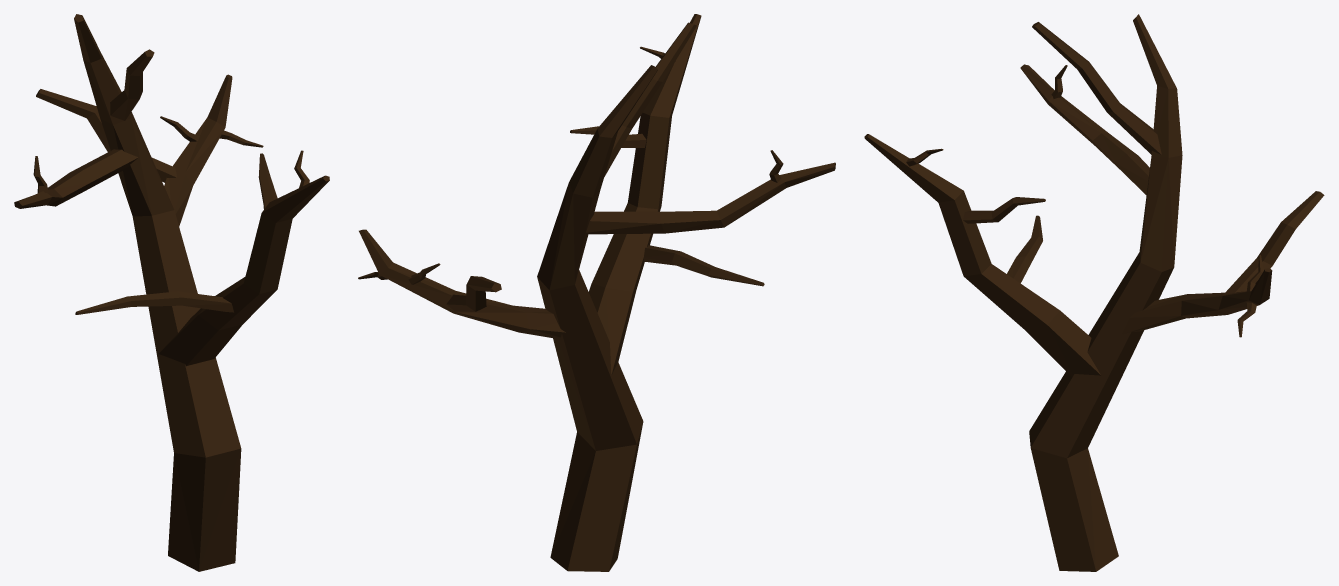
The model's file is uschnięty_krzak.fbx.
The picture shows the model from 3 angles, left to right: view 1: azimuth 30°, elevation 25°; view 2: azimuth 150°, elevation 25°; view 3: azimuth 270°, elevation 25°; orthographic projection. The views are drawn at different scales.
Parts seen in each view (by area): view 1: Patykowaty_2_LOD0; view 2: Patykowaty_2_LOD0; view 3: Patykowaty_2_LOD0.
Boxes of the visible parts, bbox=[...] form: Patykowaty_2_LOD0: bbox=[14, 14, 329, 571]; Patykowaty_2_LOD0: bbox=[358, 14, 835, 571]; Patykowaty_2_LOD0: bbox=[864, 14, 1324, 571].
Size of what is drawn, in the model's own units: 131 by 188 by 156.
